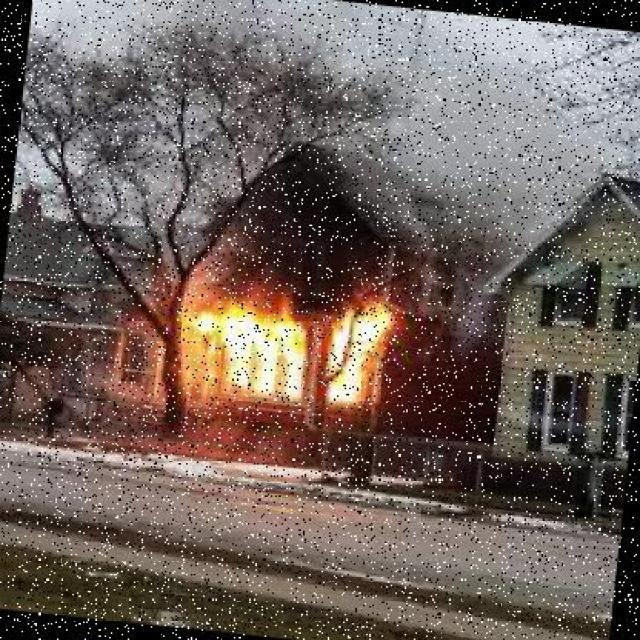fire: (149, 218, 428, 432)
